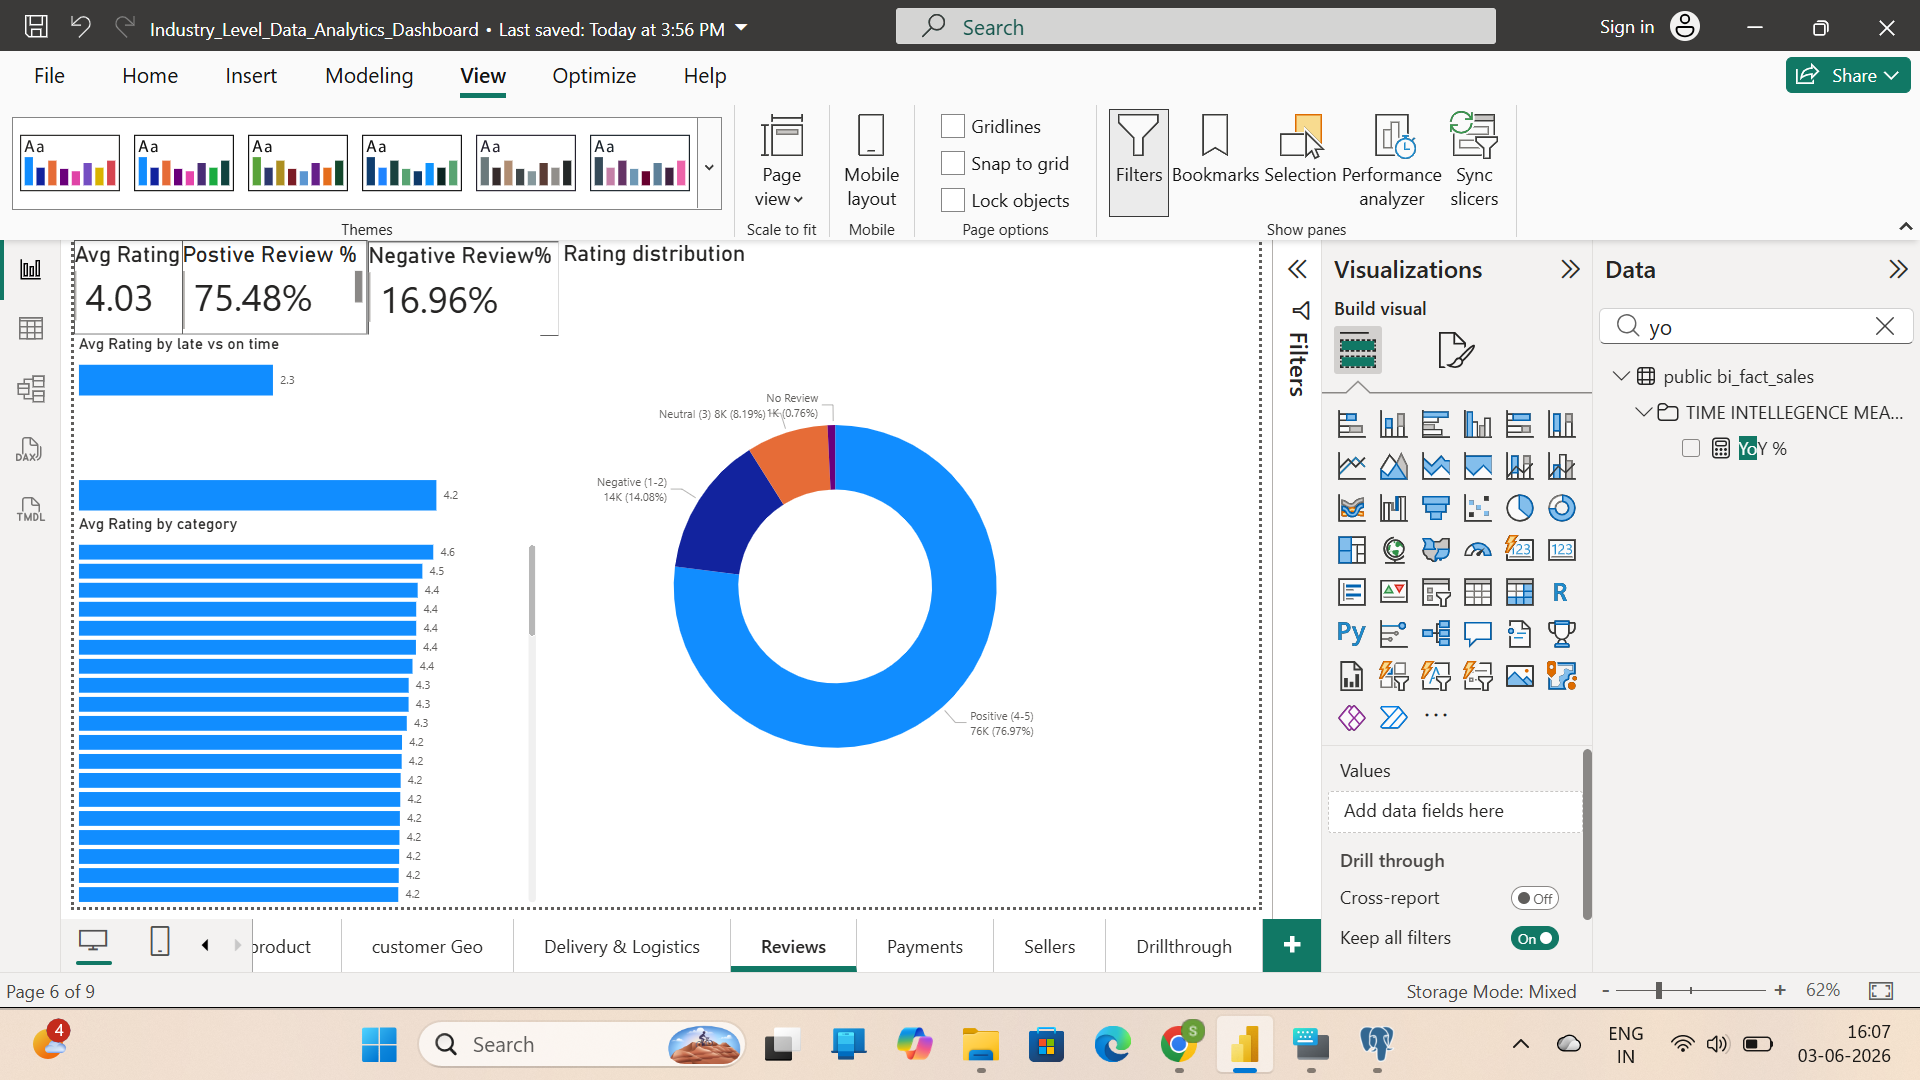

The page's visual inventory and layout, read from the dashboard file:
{"tool":"powerbi","page":{"name":"Reviews","canvas":[1280,720],"ordinal":5},"visuals":[{"type":"multiRowCard","title":"Avg Rating","fields":{"Values":["public bi_fact_sales.Avg Rating"]},"box":[0,0,131.7,101.7],"z":0},{"type":"multiRowCard","title":"Postive Review %","fields":{"Values":["public bi_fact_sales.Positive Reviews %","public bi_fact_sales.Negative Reviews %"]},"box":[116.7,0,200,101.7],"z":1000},{"type":"multiRowCard","title":"Negative Review%","fields":{"Values":["public bi_fact_sales.Negative Reviews %"]},"box":[316.7,1.7,206.7,101.7],"z":2000},{"type":"donutChart","title":"Rating distribution","fields":{"Y":["public bi_fact_sales.Orders"],"Category":["public bi_fact_sales.Review Bucket"]},"box":[523.3,0,596.7,720],"z":3000},{"type":"barChart","title":"Avg Rating by late vs on time","fields":{"Y":["public bi_fact_sales.Avg Rating"],"Category":["public bi_fact_sales.is_late"]},"box":[0,101.7,503.3,195],"z":4000},{"type":"barChart","title":"Avg Rating  by category ","fields":{"Category":["public bi_fact_sales.category"],"Y":["public bi_fact_sales.Avg Rating"]},"box":[0,296.7,503.3,423.3],"z":5000}]}

Visuals, with their boxes on the page's 1280x720 design canvas (x1, y1, x2, y2). These are canvas units, not pixel positions in the 1920x1080 screenshot, which may show the page scaled, cropped or inside an application window:
"Avg Rating" multiRowCard: l=0, t=0, r=132, b=102
"Postive Review %" multiRowCard: l=117, t=0, r=317, b=102
"Negative Review%" multiRowCard: l=317, t=2, r=523, b=103
"Rating distribution" donutChart: l=523, t=0, r=1120, b=720
"Avg Rating by late vs on time" barChart: l=0, t=102, r=503, b=297
"Avg Rating  by category " barChart: l=0, t=297, r=503, b=720
